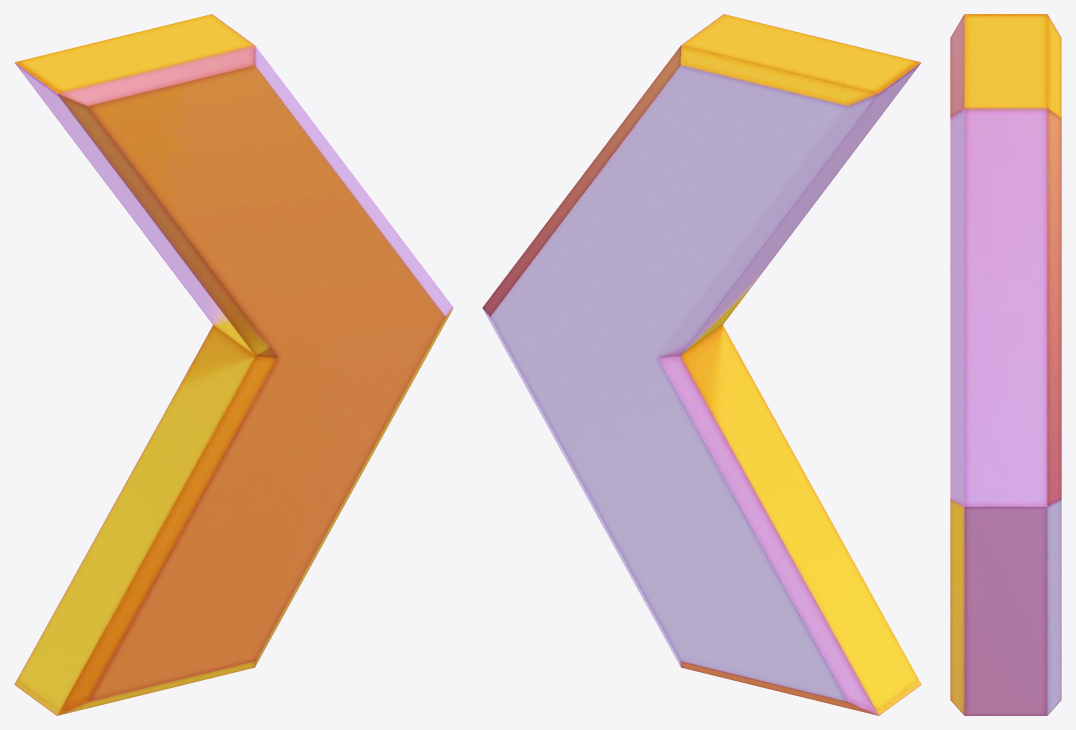
File: INCONOGRAPHY_ArrowDirectory_v2.glb
3 views of the same model, side by side, from view 1: azimuth 30°, elevation 25°; view 2: azimuth 150°, elevation 25°; view 3: azimuth 270°, elevation 25° (orthographic). The views are drawn at different scales.
Visible parts, largest first — view 1: ArrowDirectory; view 2: ArrowDirectory; view 3: ArrowDirectory.
Boxes of the visible parts, left/top/right/bottom form: ArrowDirectory: left=14, top=14, right=453, bottom=715; ArrowDirectory: left=482, top=14, right=921, bottom=715; ArrowDirectory: left=950, top=14, right=1061, bottom=715.
Size of the model in its own units: 0.6298 by 0.9438 by 0.1571.
1 material, 1 textured.
